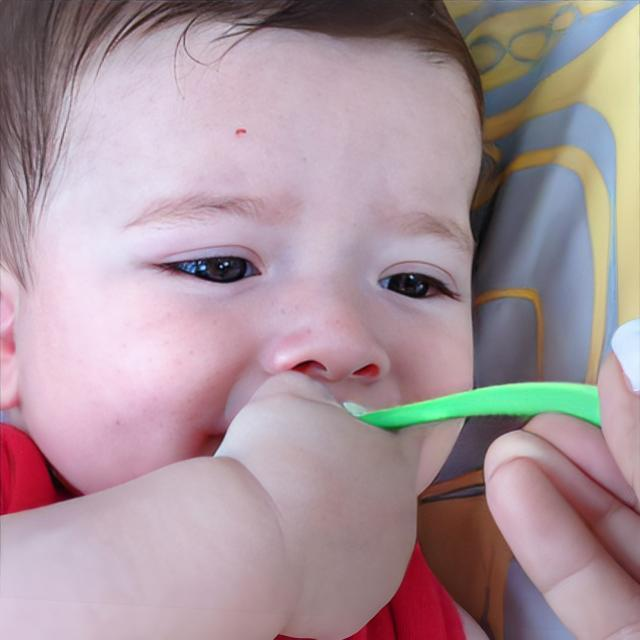sad: (22, 29, 486, 527)
